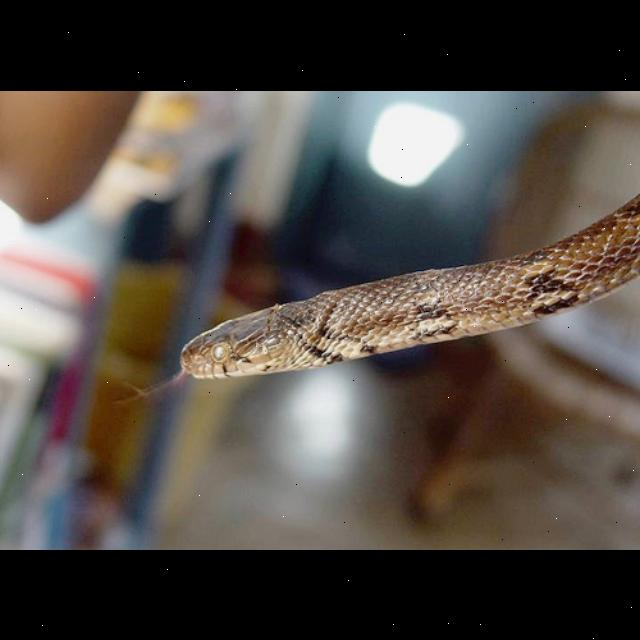snake: (148, 175, 638, 401)
